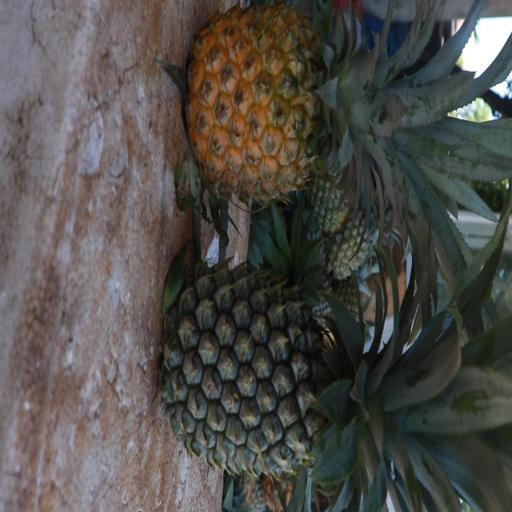Pineapple - v8 v1: (196, 11, 469, 209)
